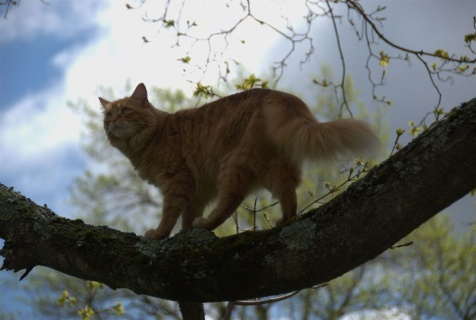Cat: (93, 80, 386, 243)
